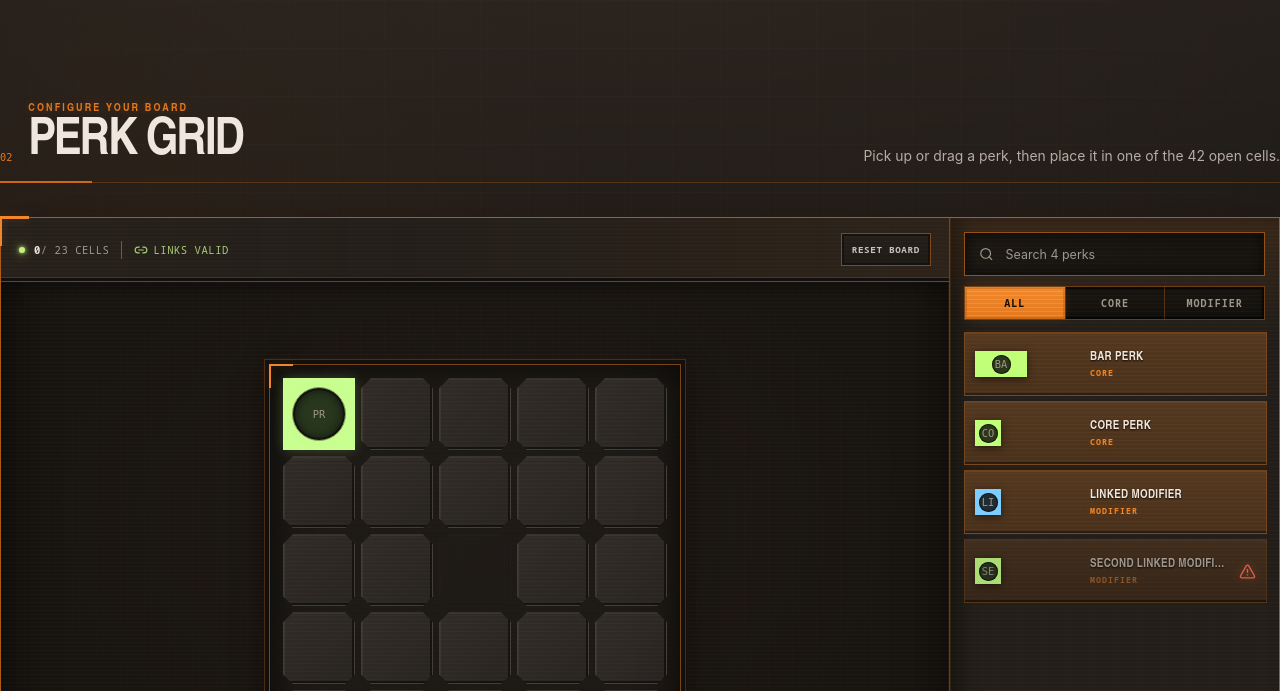
Test: PerkWorkbench pickup interaction › asks which terminal family owns a modifier placed against two families
This screenshot has width=1280, height=691.
Step 1. Click the button with aria-label "Pick up Core Perk for placement" → (1116, 433), box [964, 401, 1267, 465]
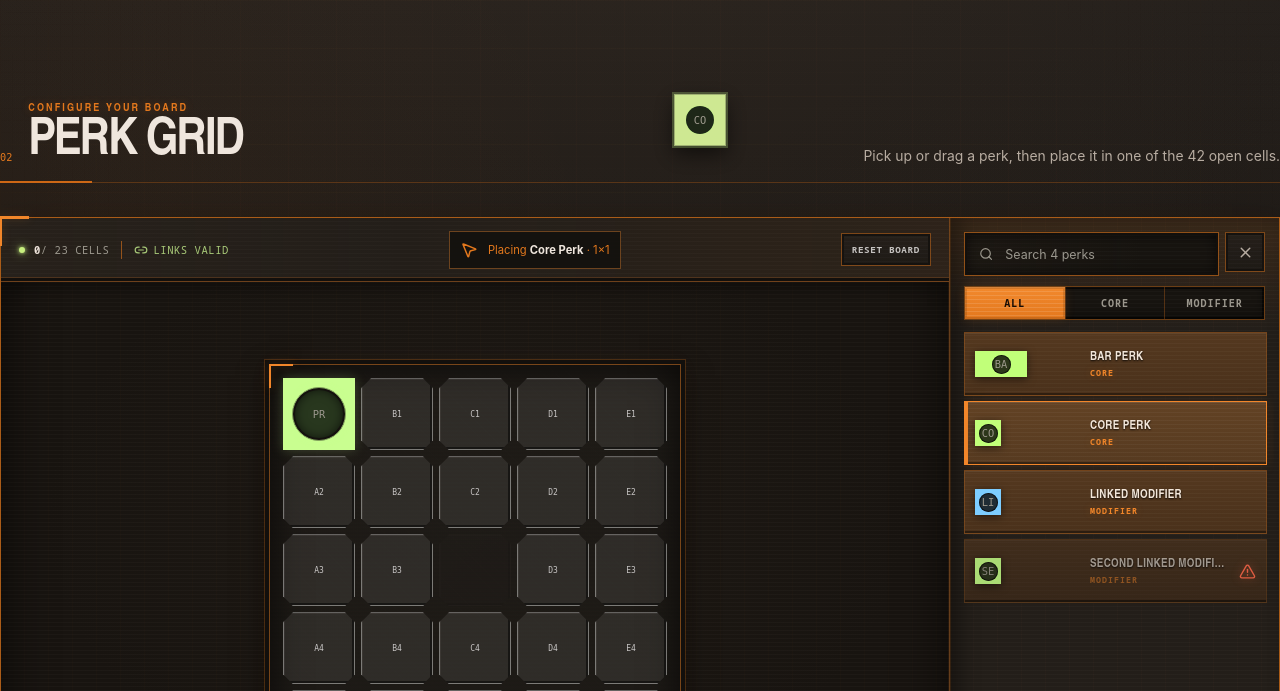
Step 2. Click the button "C1" → (475, 414), box [439, 378, 511, 450]
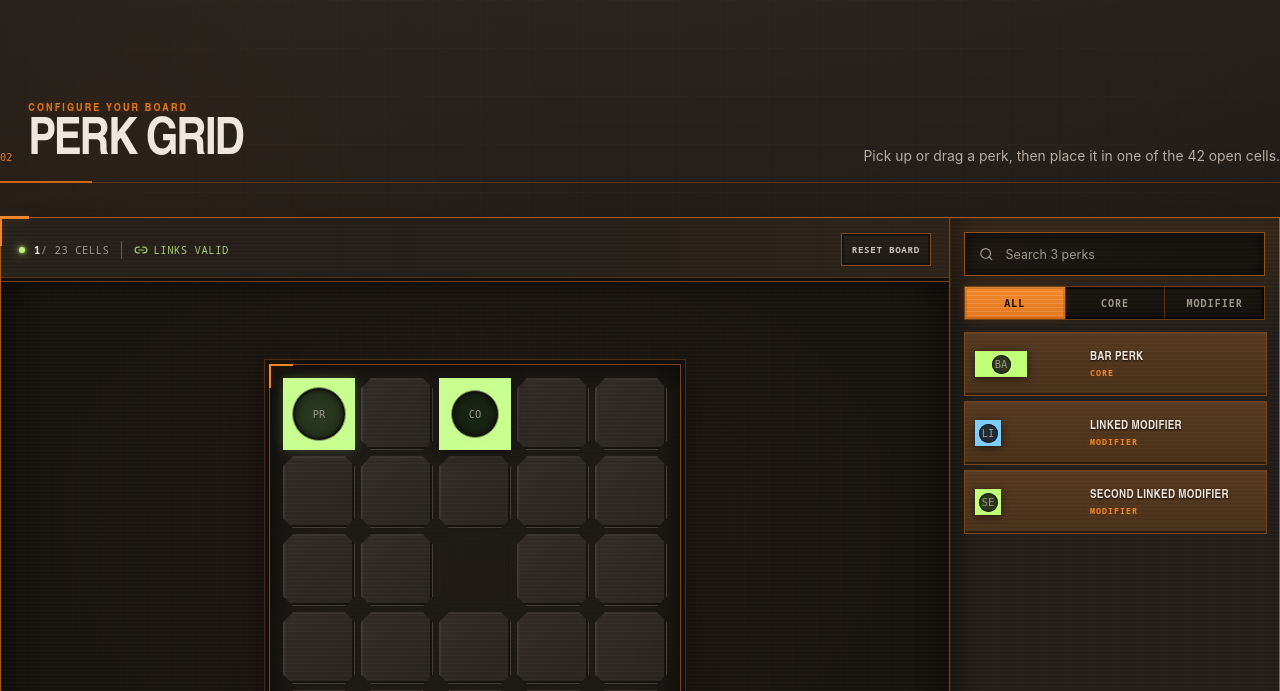
Step 3. Click the button with aria-label "Pick up Linked Modifier for placement" → (1116, 433), box [964, 401, 1267, 465]
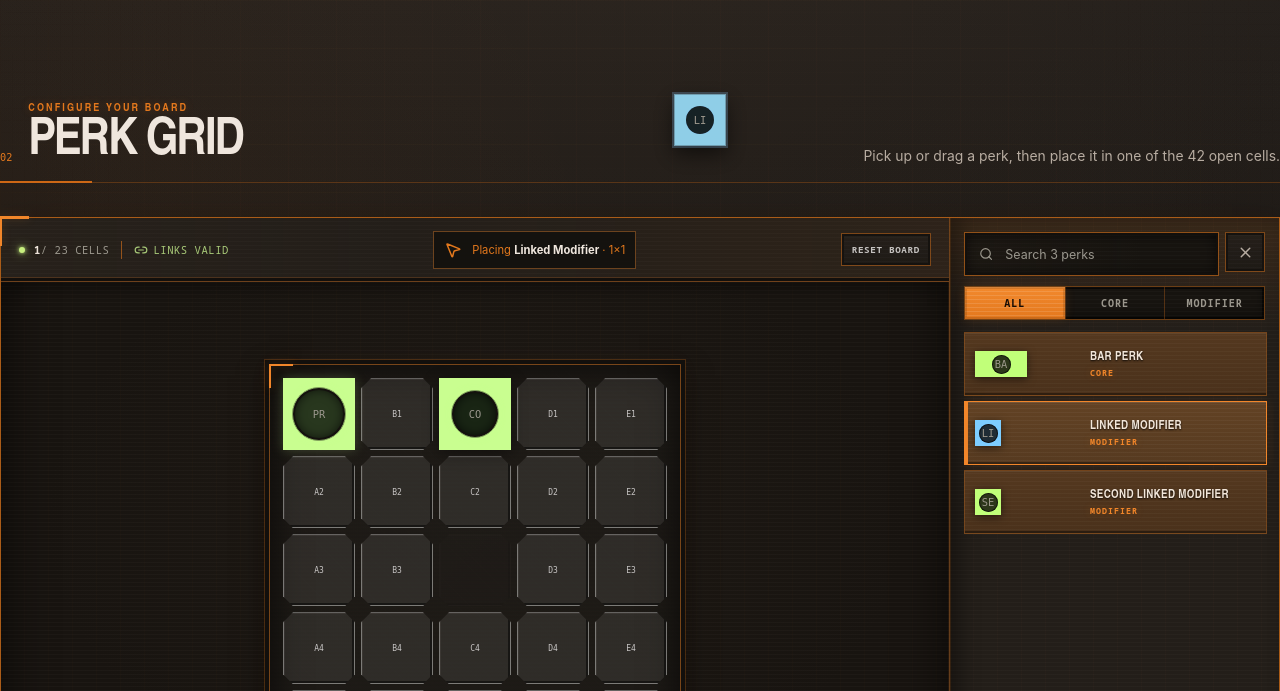
Step 4. Click the button "B1" → (397, 414), box [361, 378, 433, 450]
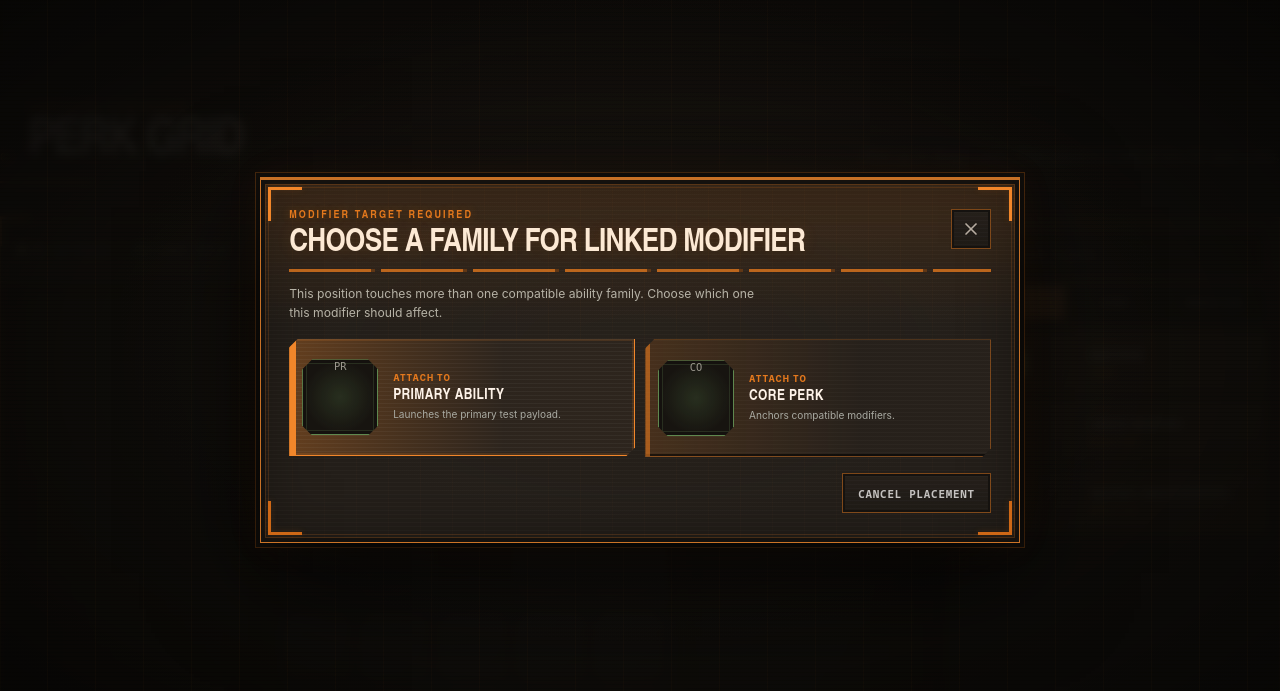
Now the button "Primary Ability" is shown, box [289, 340, 635, 456]
Now the button "CO Attach to Core Perk Anchors compatible modifiers." is shown
Step 5. Click the button "CO Attach to Core Perk Anchors compatible modifiers." → (818, 398), box [645, 340, 991, 458]
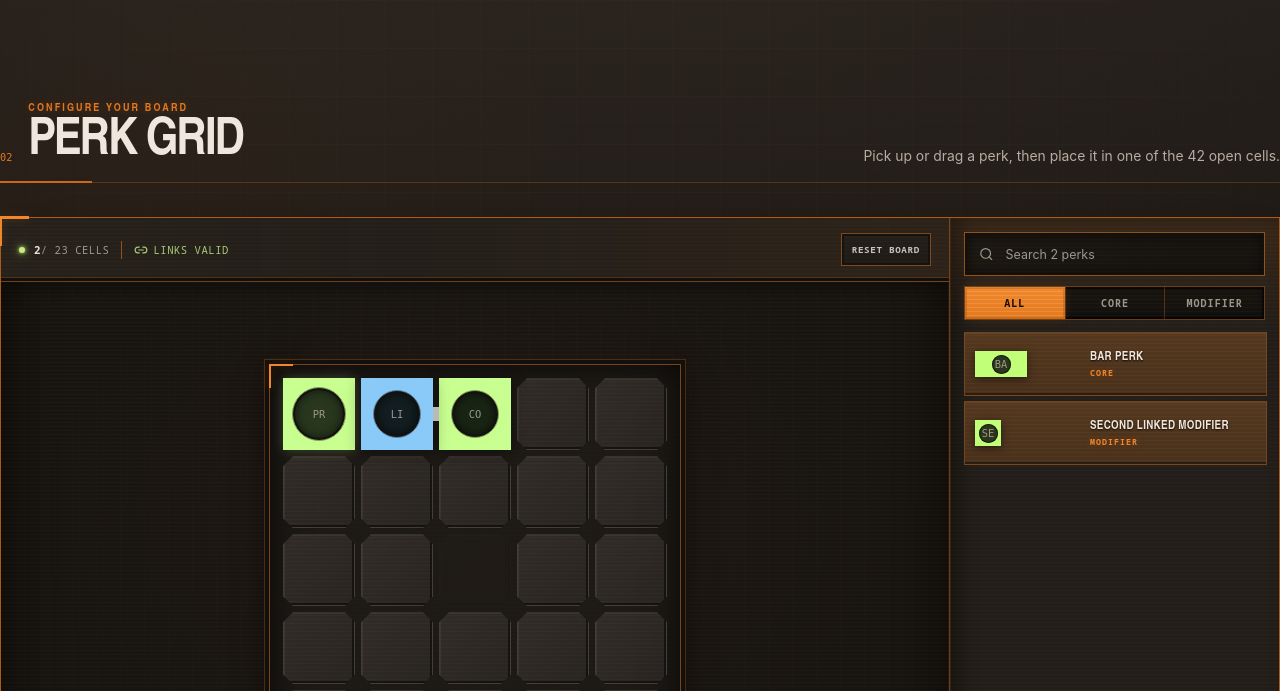
Now the heading "Choose a family for Linked Modifier" is gone
Now the number of elements with class "family-connector" is 1, box [361, 378, 433, 450]
